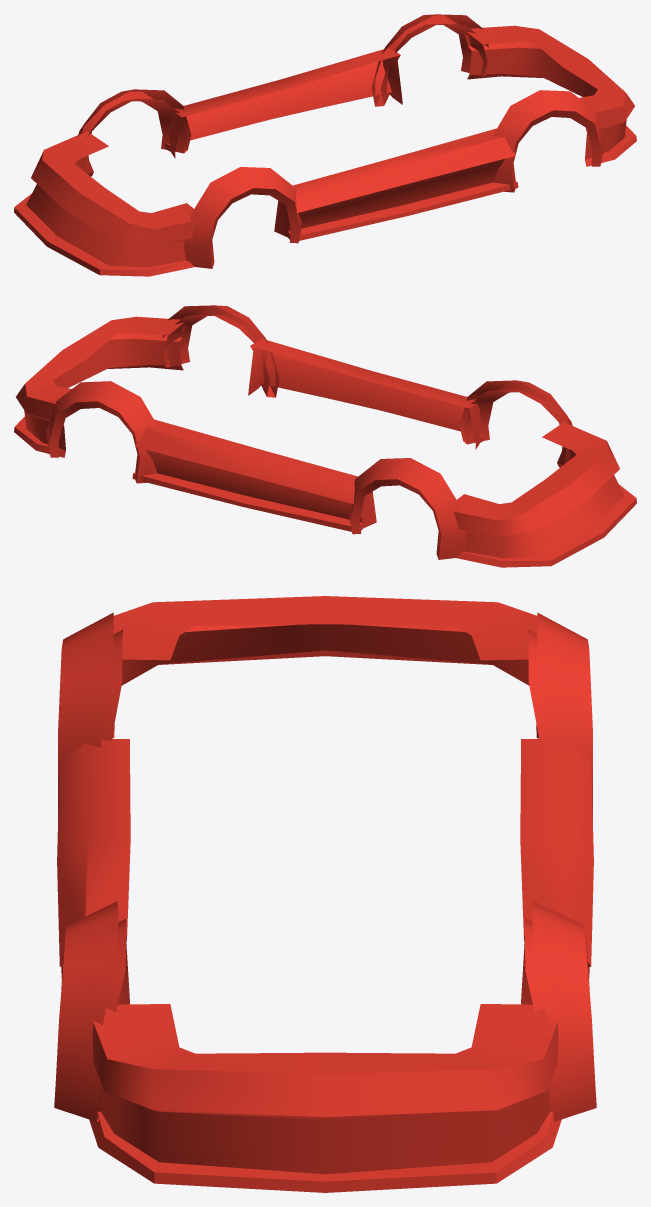
The model's file is bodykit.fbx.
3 renders of one model, top to bottom at view 1: azimuth 30°, elevation 25°; view 2: azimuth 150°, elevation 25°; view 3: azimuth 270°, elevation 25°, orthographic. The views are drawn at different scales.
Parts seen in each view (by area): view 1: bodykit; view 2: bodykit; view 3: bodykit.
Boxes of the visible parts, <box> form: bodykit: <box>14,14,636,276</box>; bodykit: <box>14,305,636,567</box>; bodykit: <box>54,596,596,1192</box>.
Size of the model in its own units: 882 by 131 by 372.
